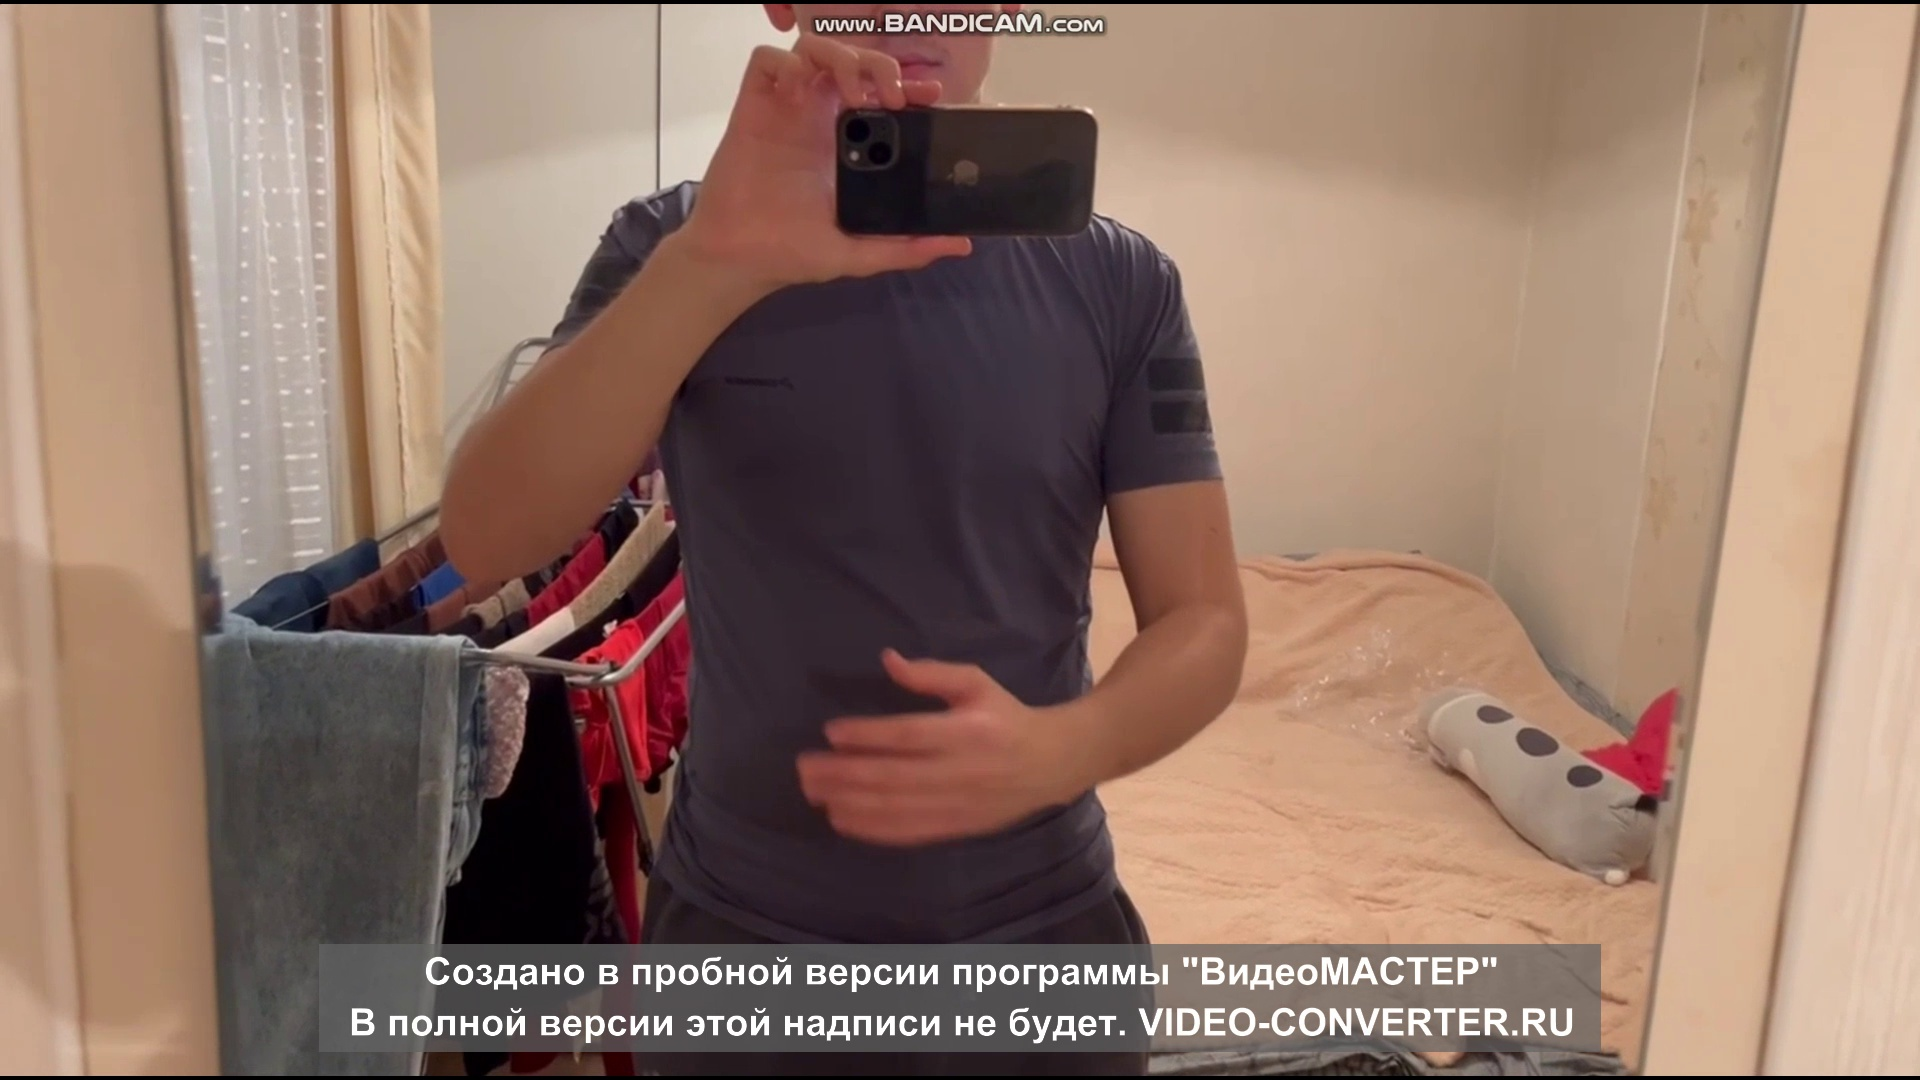Кисть: (793, 642, 1060, 844)
